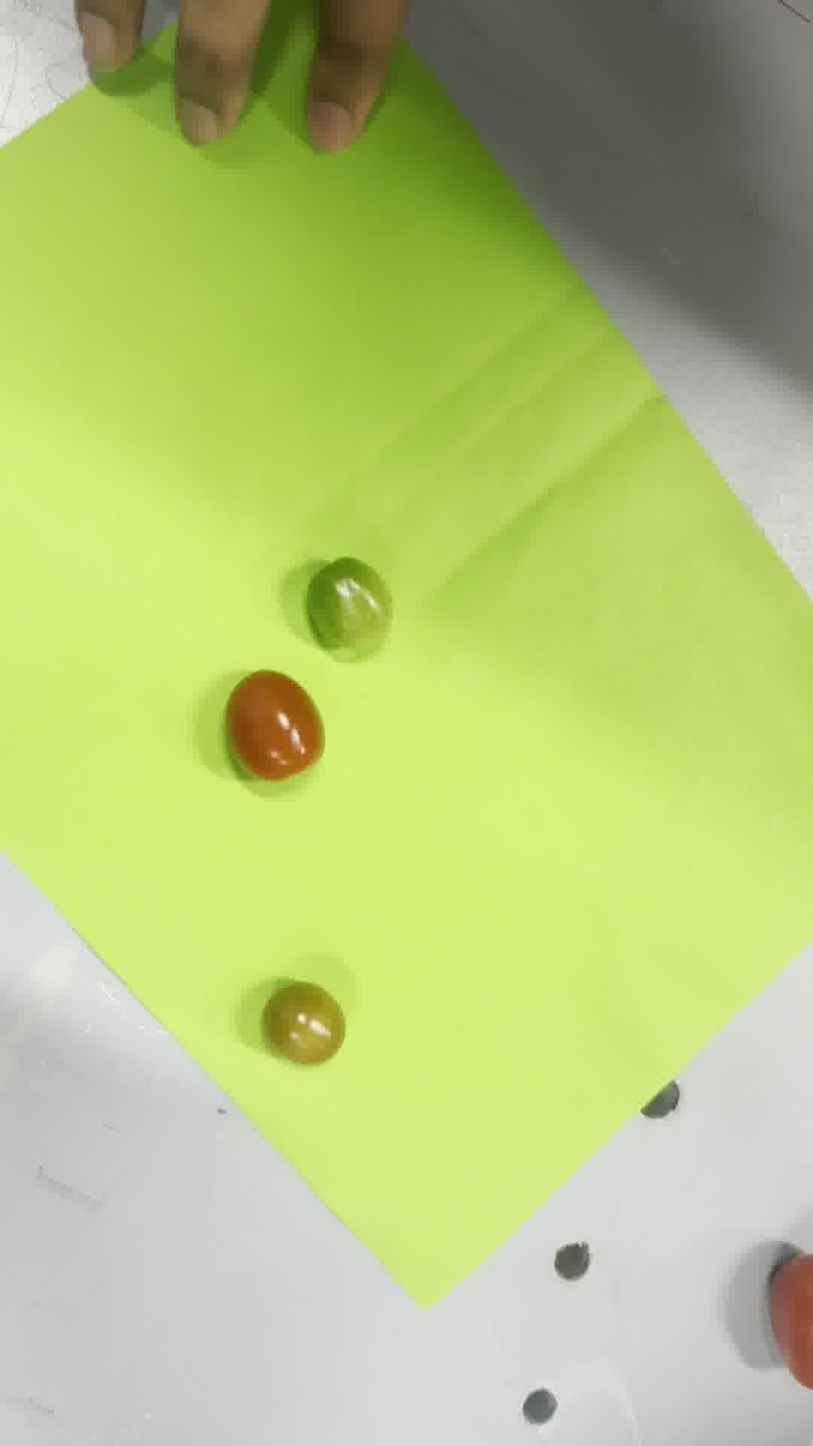green_cherry_tomato: (306, 557, 392, 660)
red_cherry_tomato: (225, 670, 324, 782)
yellow_cherry_tomato: (262, 980, 345, 1065)
